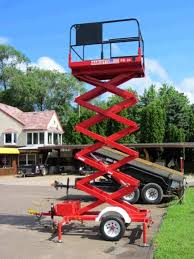Scissor Lift: (27, 17, 153, 247)
